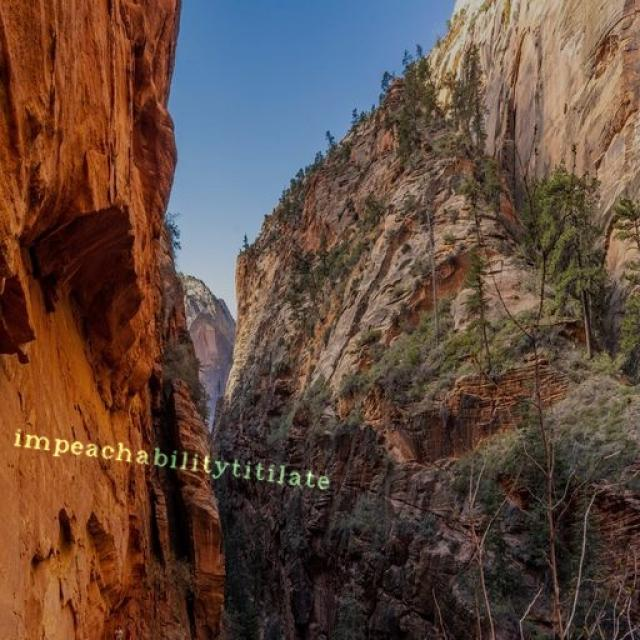watermark: (5, 427, 346, 492)
